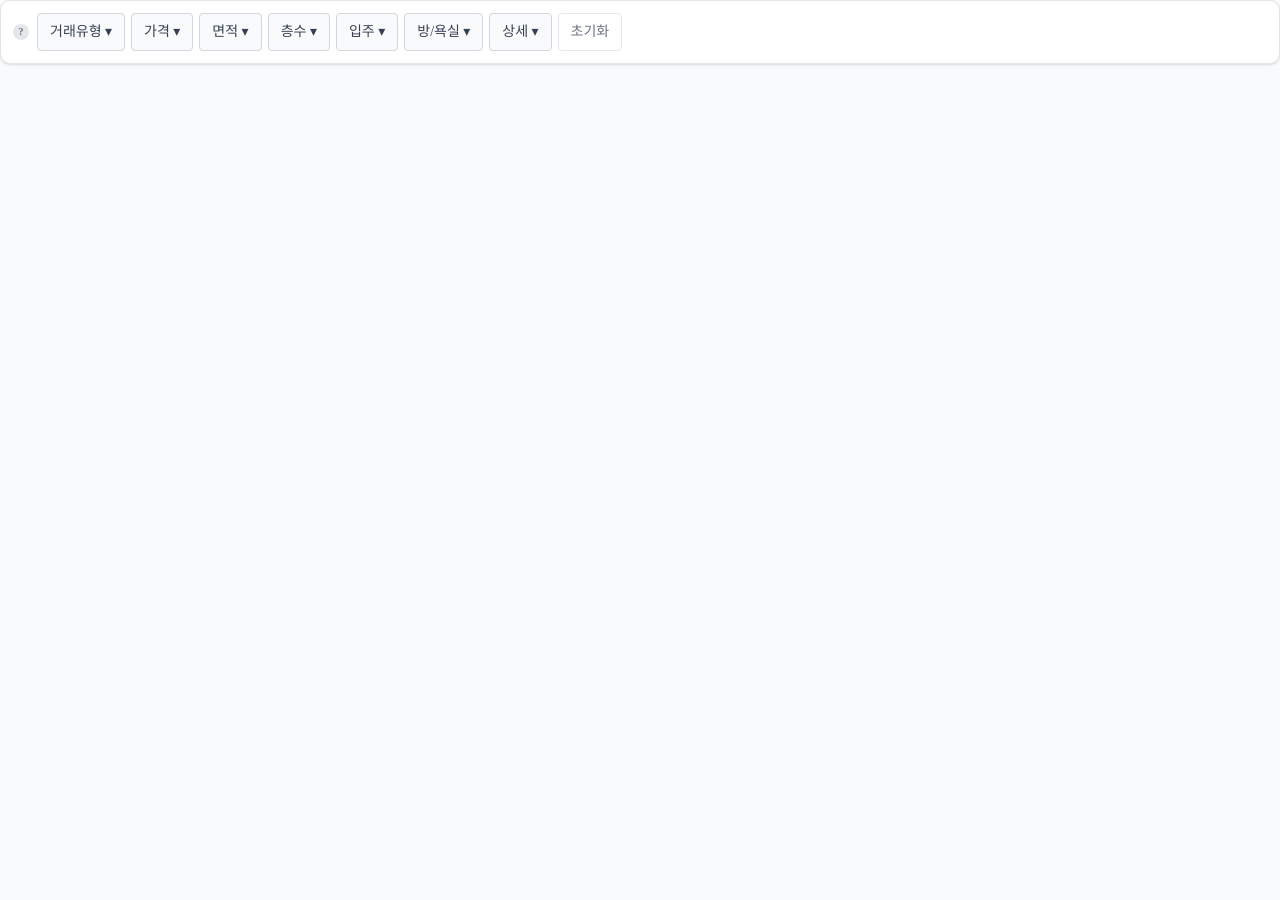
it: FilterBar — 상세 드롭다운 › 동 필터 옵션 표시
Step 1. Click the button "상세 ▾" → click(520, 32), box [489, 13, 552, 51]
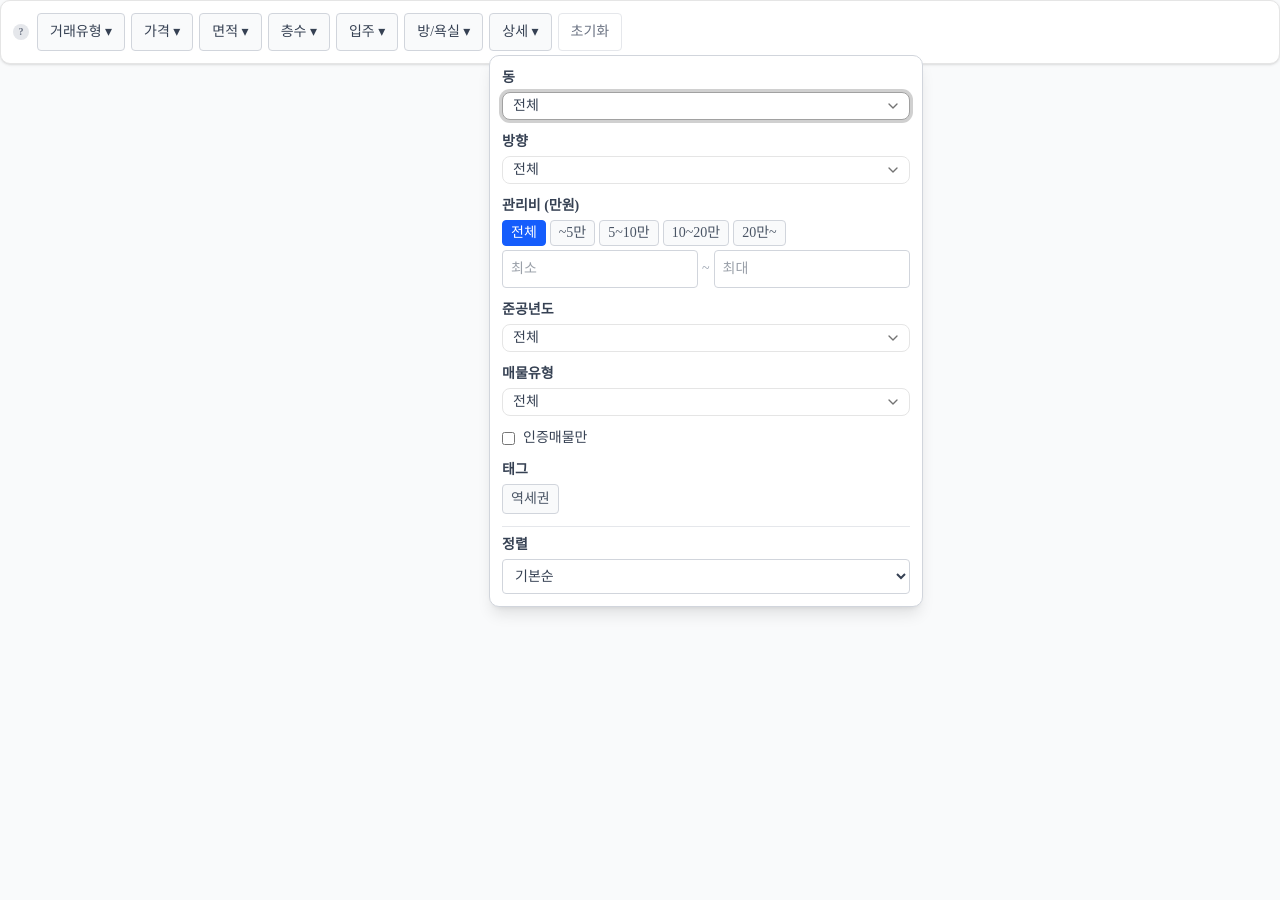
Step 2. Click the dropdown named "동 선택" → click(526, 106), box [502, 92, 910, 120]
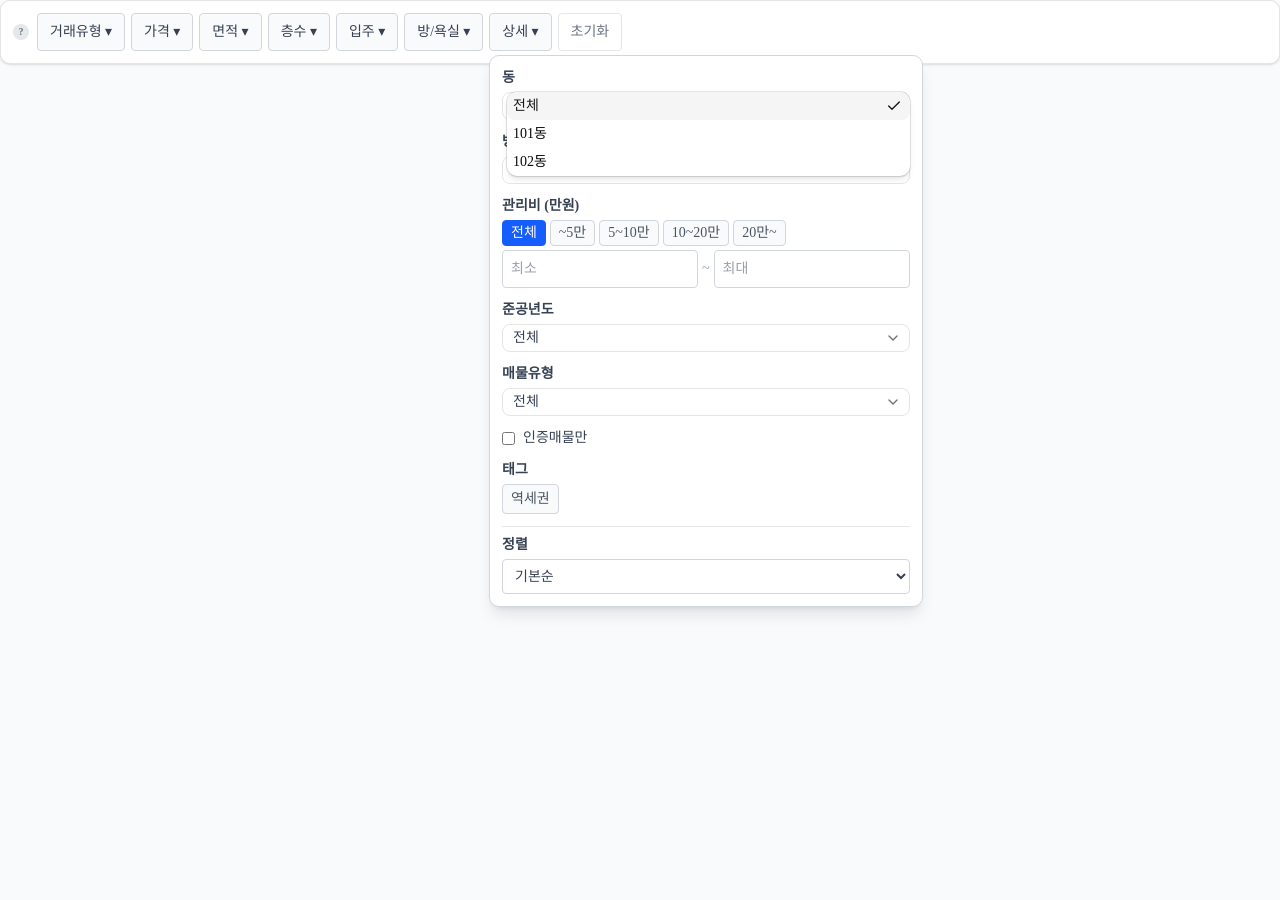
Result: the option "101동" is shown at [513, 126, 547, 141]
Result: the option "102동" is shown at [513, 154, 547, 169]
